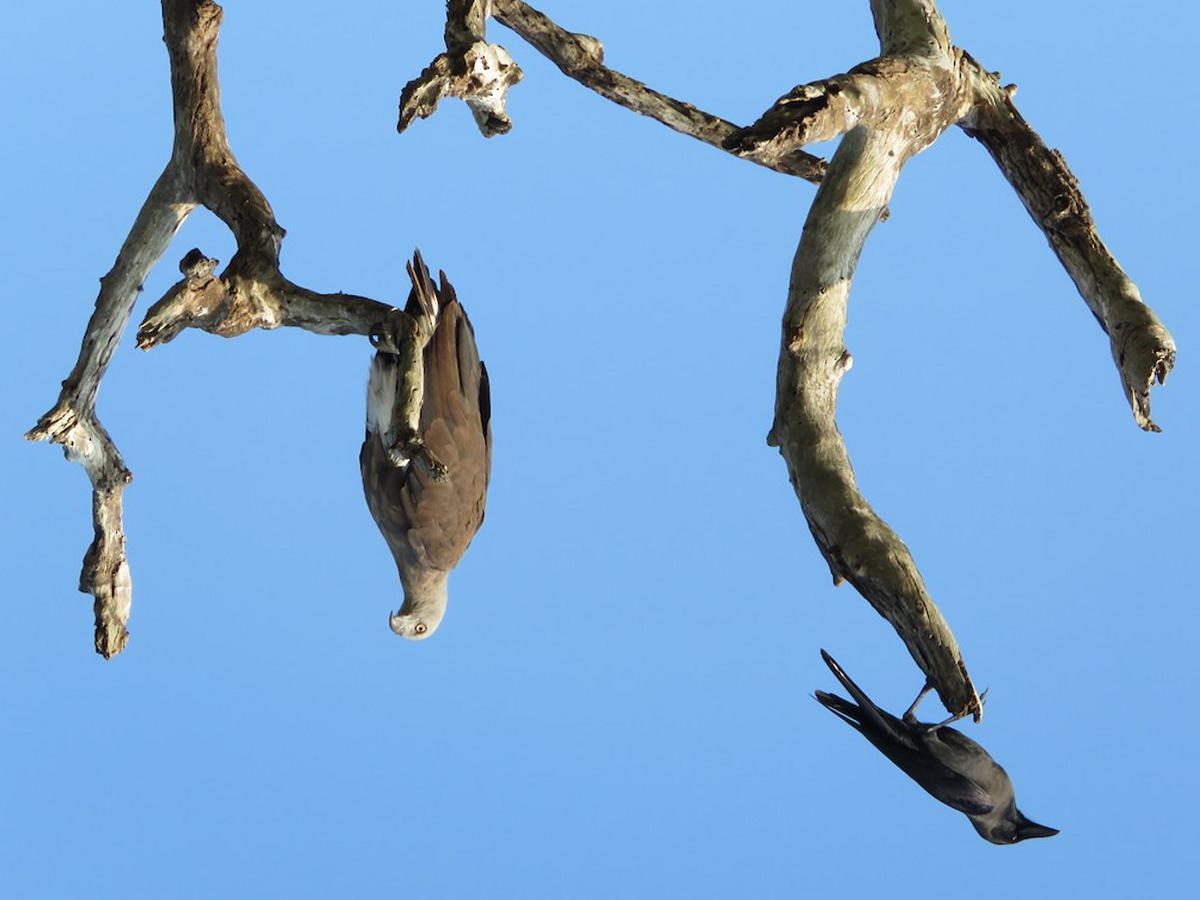crow: (805, 653, 1086, 855)
